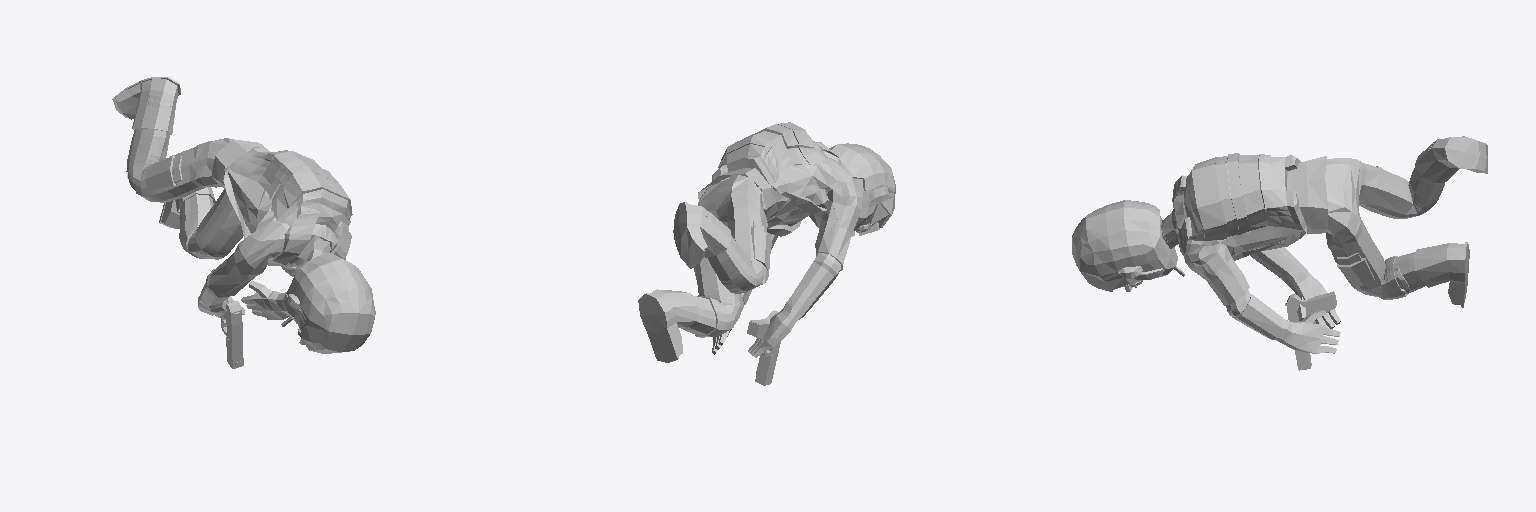
Rendered from frame_0049.obj.
3 renders of one model, left to right at view 1: azimuth 30°, elevation 25°; view 2: azimuth 150°, elevation 25°; view 3: azimuth 270°, elevation 25°, orthographic.
Parts seen in each view (by area): view 1: Body, Gun; view 2: Body, Gun; view 3: Body, Gun.
Boxes of the visible parts, x1,y1,x2,y2 form: Body: [112, 77, 375, 353]; Gun: [221, 296, 243, 368]; Body: [638, 122, 895, 362]; Gun: [747, 310, 780, 385]; Body: [1072, 136, 1487, 353]; Gun: [1285, 291, 1336, 370].
Bounding box in the file's own units: 1.26 × 2.31 × 3.7.